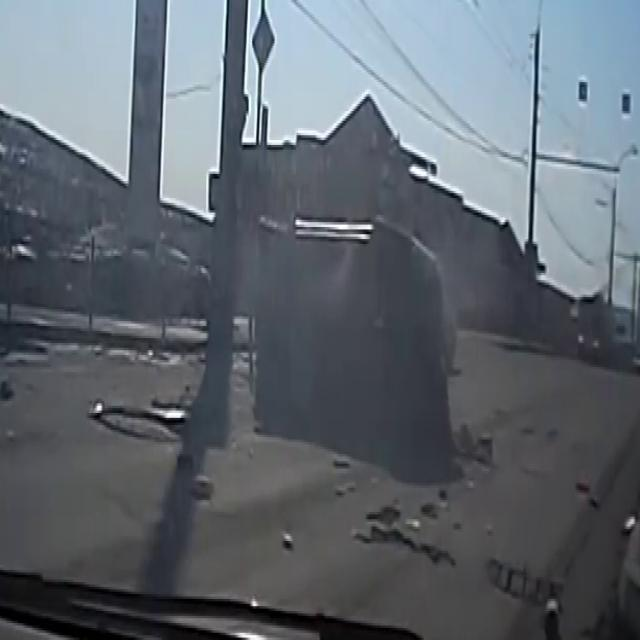accident: (243, 190, 468, 464)
